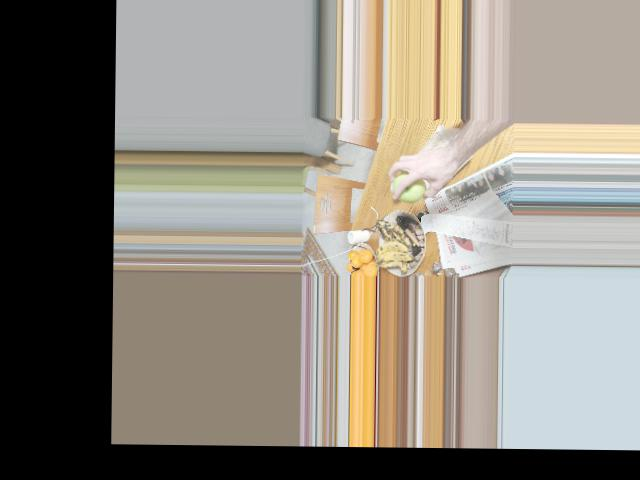apple: (391, 171, 427, 202)
